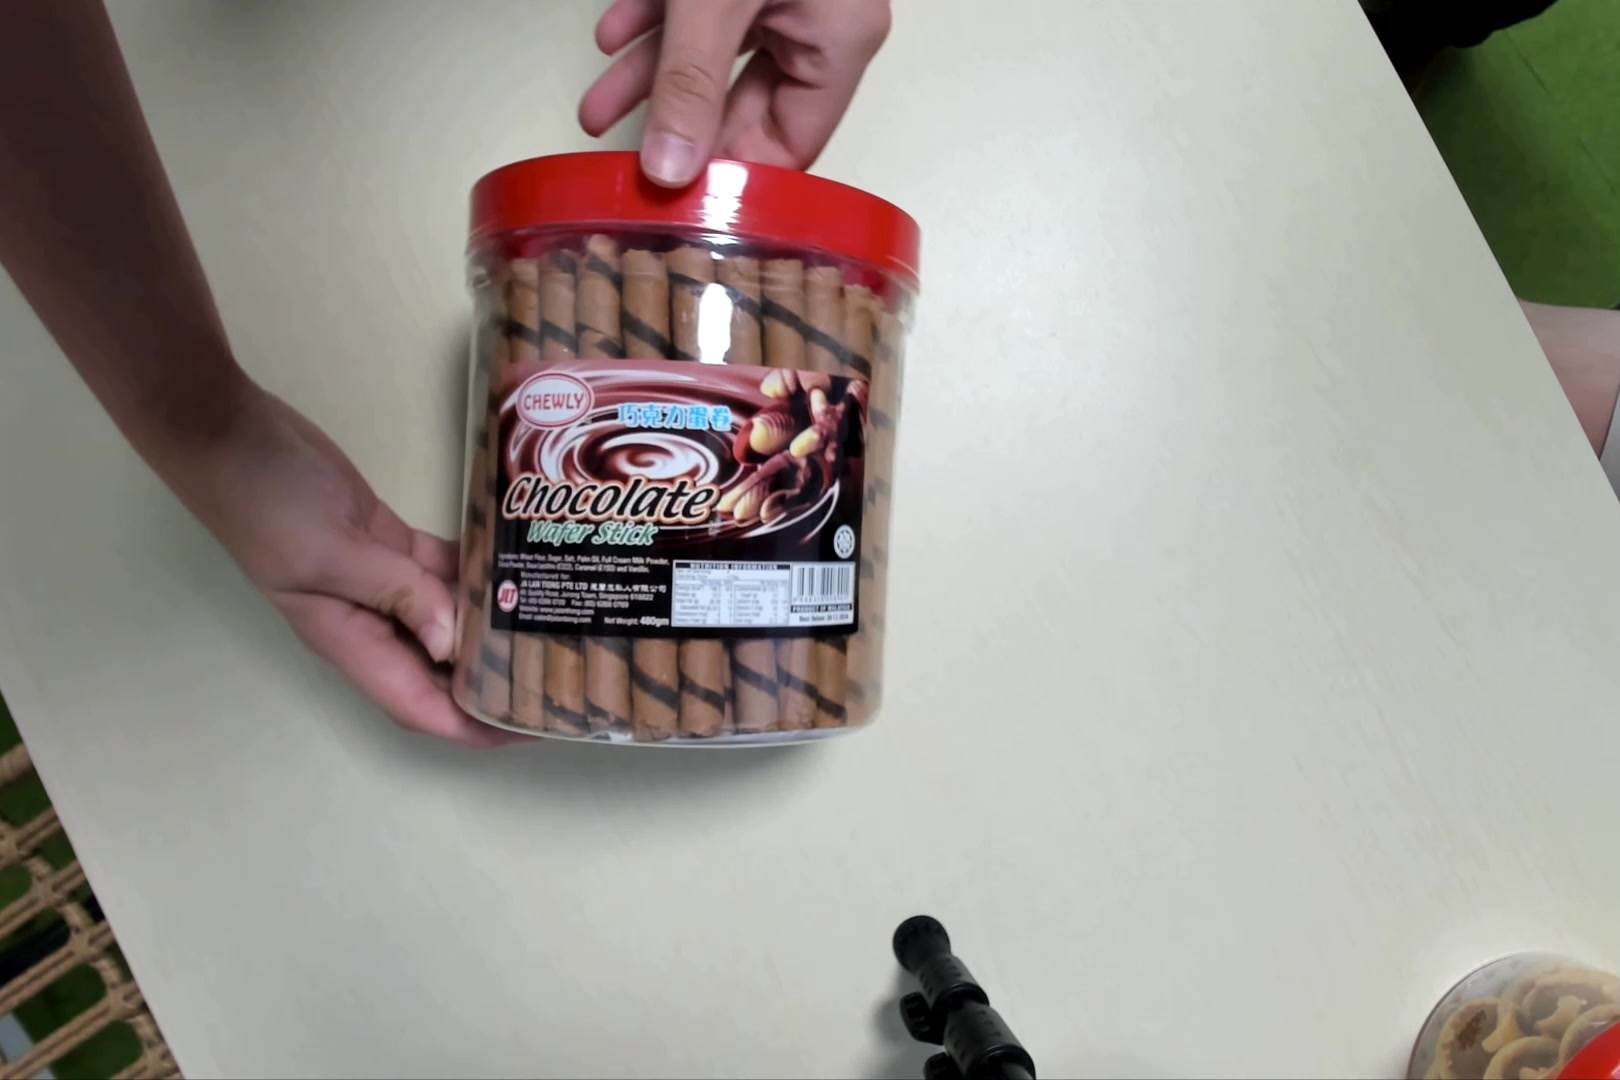BiscuitsCrackersCookies_400-499g_Halal_NonHealthy: (450, 152, 927, 753)
